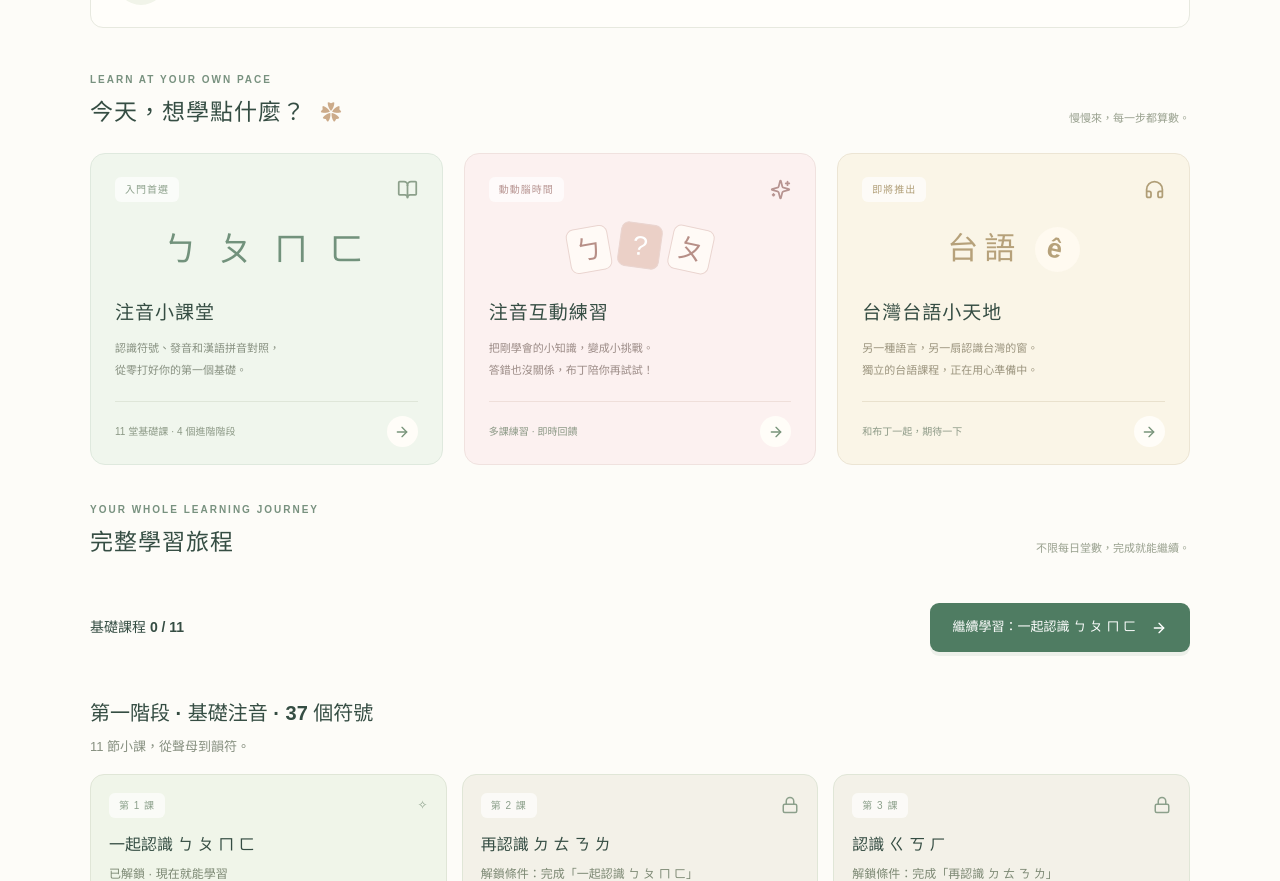
Scenario: malformed storage does not break app and Taiwanese remains independent
This screenshot has width=1280, height=881.
(page scrolled)
Click the button named "了解台灣台語課程" at (1150,432), box [1134,416,1165,447]
(page scrolled)
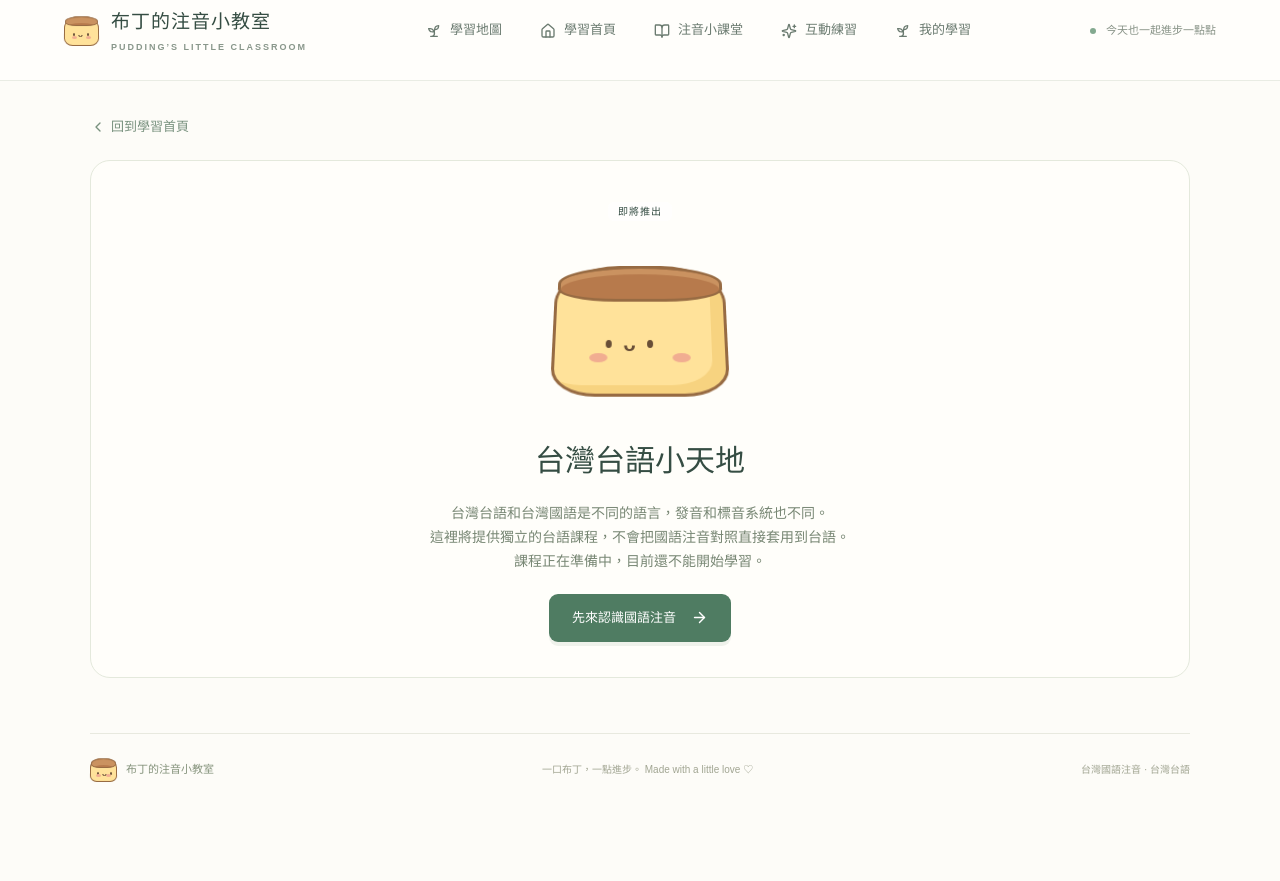
Result: the text "台灣台語和台灣國語是不同的語言，發音和標音系統也不同。這裡將提供獨立的台語課程，不會把國語注音對照直接套用到台語。" is shown at [430,505,850,545]
Result: the text "課程正在準備中，目前還不能開始學習。" is shown at [514,553,766,569]
